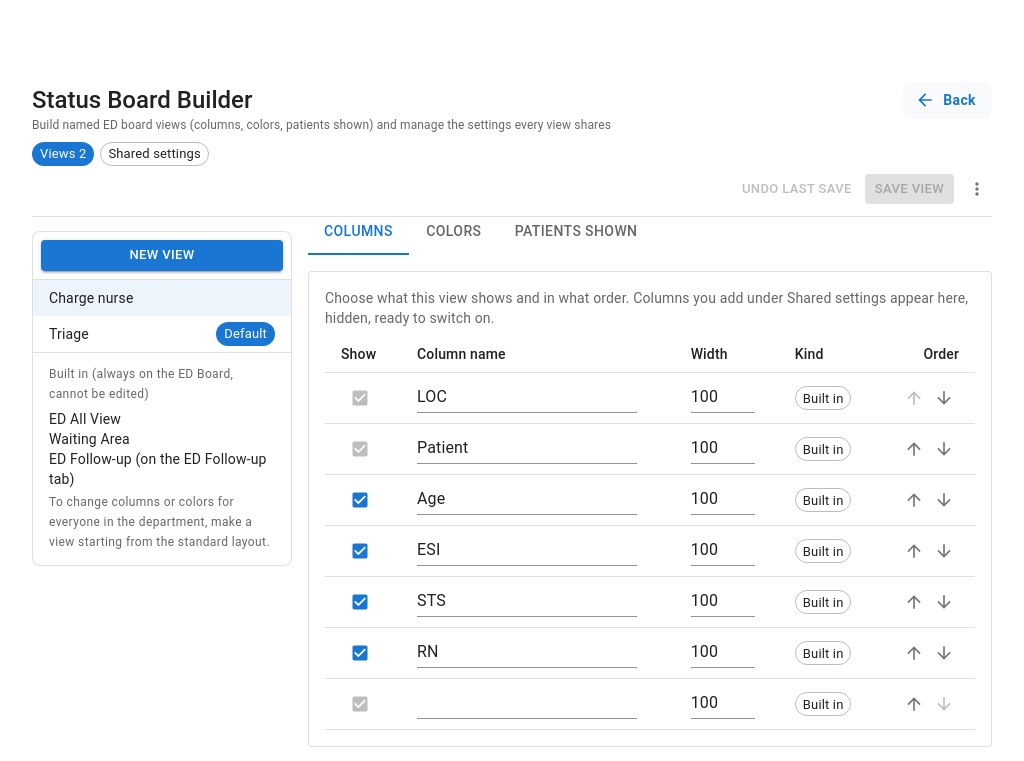
Test: conditions on the patient › a condition with nothing chosen yet holds back the save and says why
Later steps or results of the test are not shown.
Expected: the button with test id "view-item-1" is shown, [33, 280, 291, 316]
Click the tab "Patients shown" at (576, 231), box [499, 207, 653, 255]
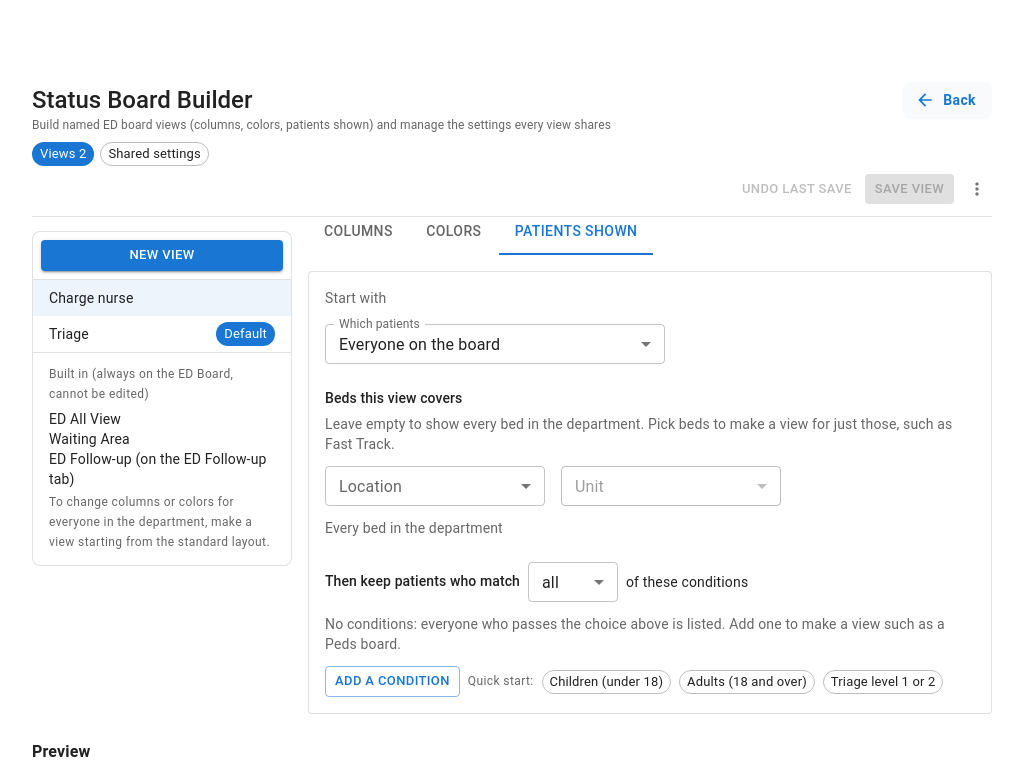
Click the button with test id "add-condition" at (392, 682), box [325, 666, 460, 697]
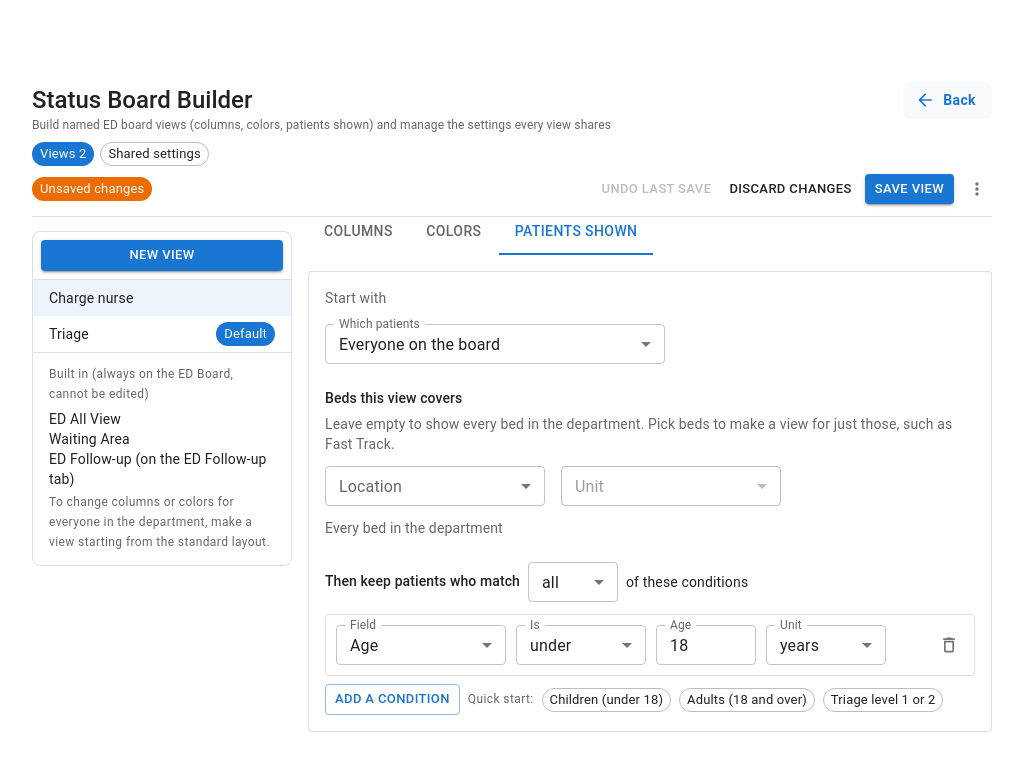
Press the mouse on the dropdown labelled "Age" at (364, 645), box [350, 636, 378, 655]
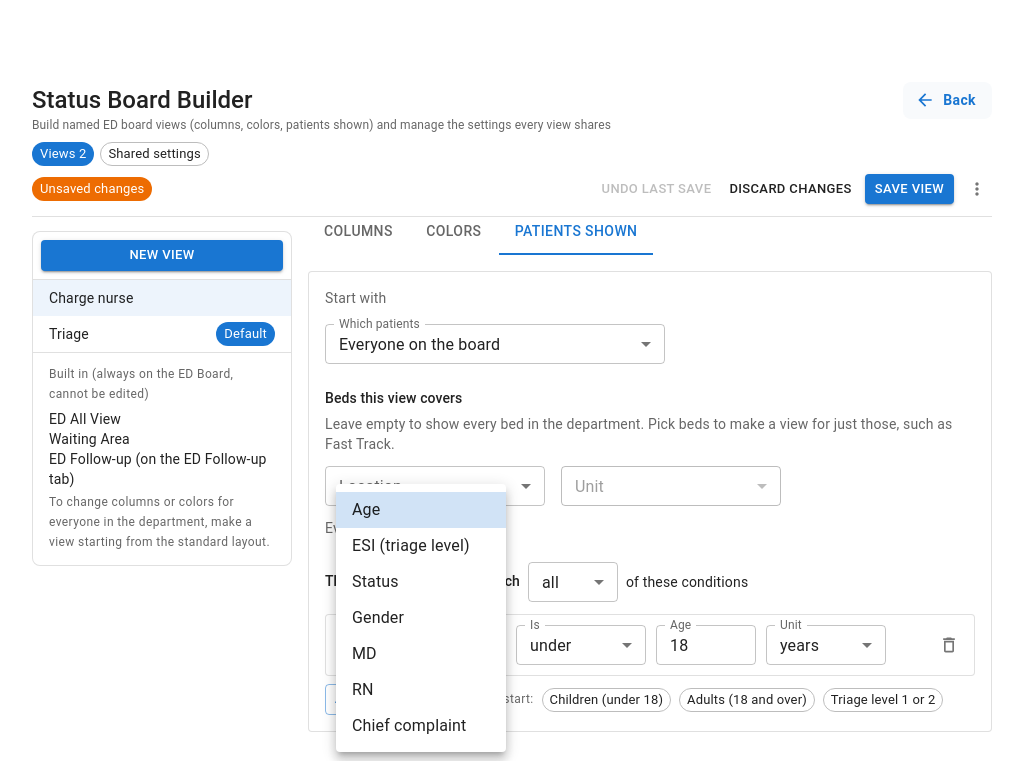
Click the option "MD" at (364, 654), box [352, 644, 377, 663]
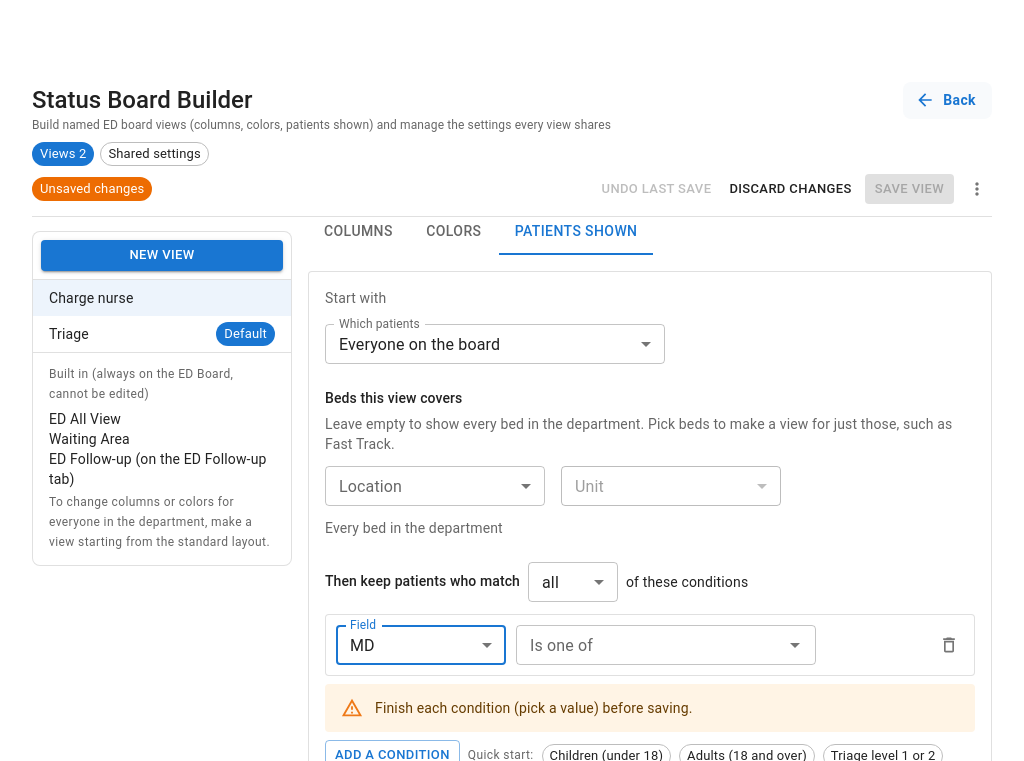
Expected: the message "Finish each condition (pick a value) before saving." is shown, [325, 684, 975, 732]
Expected: the button "Save view" is disabled, [865, 174, 954, 204]
